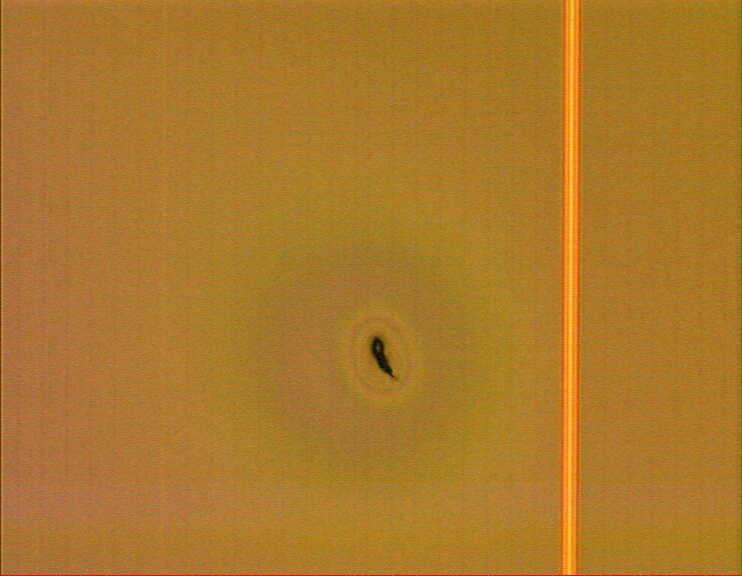PIQ PARTICLE: (366, 330, 401, 388)
